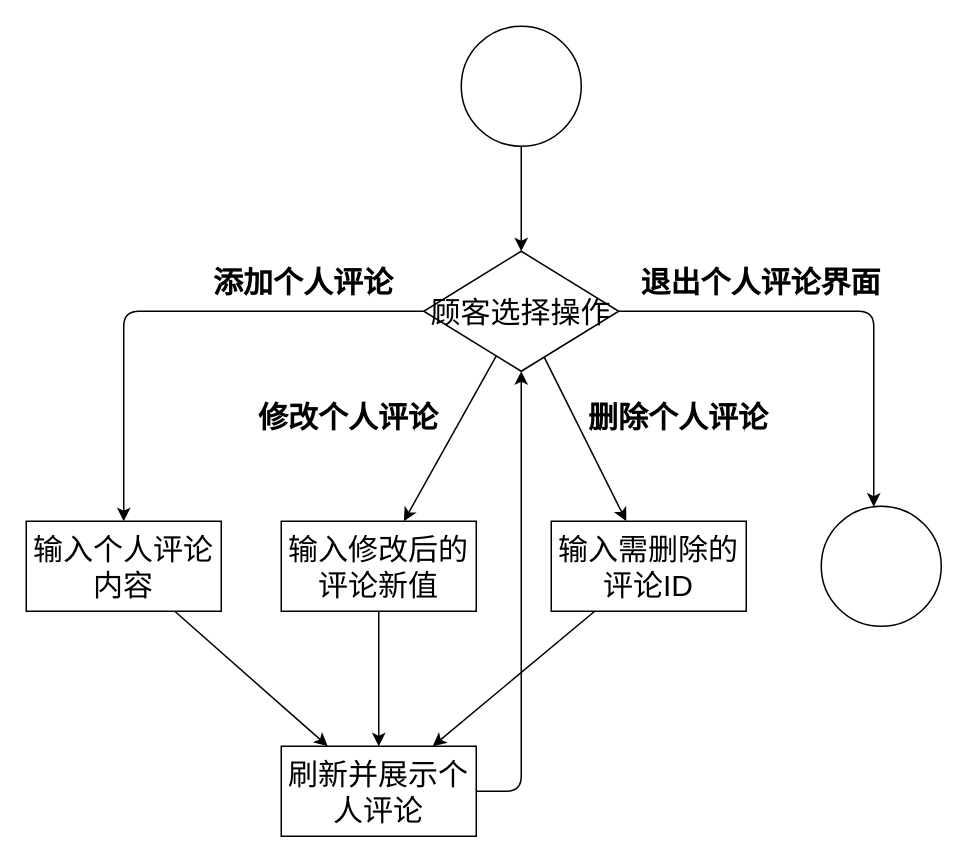
The diagram is 968 pixels wide and 863 high, and some of its shapes have lost their labels. The shapes that lost their labels are listed below. From the top down, each one's box as (x1, y1, x2, y2) in pixels, then its label:
(460, 25, 581, 146): 开始
(820, 505, 941, 626): 结束
